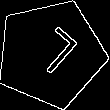L_SW: (22, 24, 80, 82)
